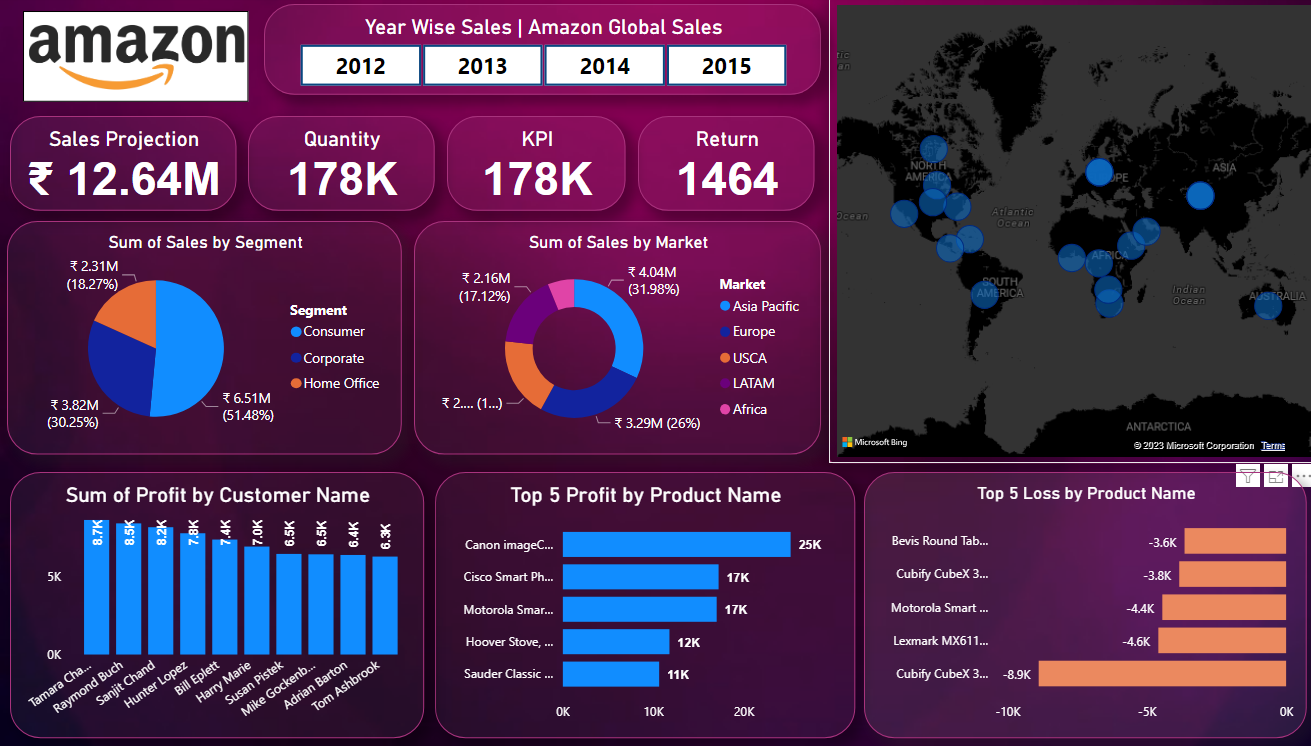

The page's visual inventory and layout, read from the dashboard file:
{"tool":"powerbi","page":{"name":"Report 1","canvas":[1291,735],"ordinal":0},"visuals":[{"type":"slicer","title":"Year Wise Sales | Amazon Global Sales ","fields":{"Values":["Orders.Year"]},"box":[259,6.9,546.4,89.3],"z":0},{"type":"image","box":[22.6,13.7,220.7,89.3],"z":1000},{"type":"card","title":"Sales Projection","fields":{"Values":["Orders.Sales"]},"box":[9.7,116.7,221.8,93.4],"z":2000},{"type":"card","title":" Quantity","fields":{"Values":["Orders.Quantity"]},"box":[243.2,116.7,182.9,93.4],"z":3000},{"type":"card","title":"KPI","fields":{"Values":["Orders.Quantity"]},"box":[437.7,116.7,175.1,93.4],"z":4000},{"type":"card","title":"Return","fields":{"Values":["Orders.Ship Date"]},"box":[625.4,116.7,173.1,93.4],"z":5000},{"type":"pieChart","fields":{"Y":["Orders.Sales"],"Category":["Orders.Segment"]},"box":[6.9,219.7,387.5,228.6],"z":6000},{"type":"donutChart","fields":{"Category":["Orders.Market"],"Y":["Orders.Sales"]},"box":[406.1,219.7,399.3,228.6],"z":7000},{"type":"map","fields":{"Category":["Orders.Region"]},"box":[805.4,0,485.6,467],"z":8000},{"type":"clusteredBarChart","title":"Top 5 Profit by Product Name","fields":{"Y":["Orders.Profit"],"Category":["Orders.Product Name"]},"box":[417.9,467,411,260],"z":9000},{"type":"columnChart","fields":{"Category":["Orders.Customer Name"],"Y":["Orders.Profit"]},"box":[0,467,406.1,260],"z":9001},{"type":"clusteredBarChart","title":"Top 5 Loss by Product Name","fields":{"Y":["Orders.Profit"],"Category":["Orders.Product Name"]},"box":[839.7,467,434.6,260],"z":9002}]}

Visuals, with their boxes in screenshot pixels (x1, y1, x2, y2), scaled from the page's 1291x735 canvas onto the 1311x746 screenshot:
"Year Wise Sales | Amazon Global Sales " slicer: 263, 7, 818, 98
image: 23, 14, 247, 105
"Sales Projection" card: 10, 118, 235, 213
" Quantity" card: 247, 118, 433, 213
"KPI" card: 444, 118, 622, 213
"Return" card: 635, 118, 811, 213
pieChart - Orders.Sales x Orders.Segment: 7, 223, 401, 455
donutChart - Orders.Market x Orders.Sales: 412, 223, 818, 455
map - Orders.Region: 818, 0, 1310, 474
"Top 5 Profit by Product Name" clusteredBarChart: 424, 474, 842, 738
columnChart - Orders.Customer Name x Orders.Profit: 0, 474, 412, 738
"Top 5 Loss by Product Name" clusteredBarChart: 853, 474, 1294, 738
